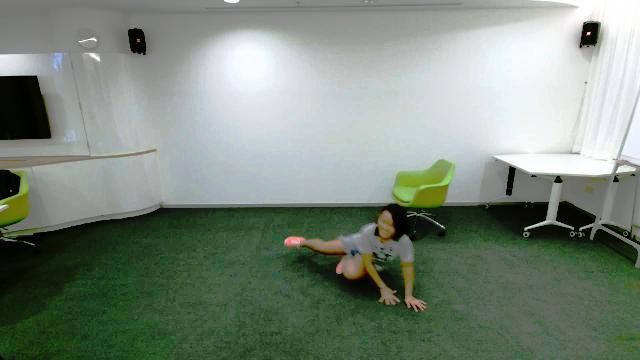jatuh: (282, 200, 428, 316)
